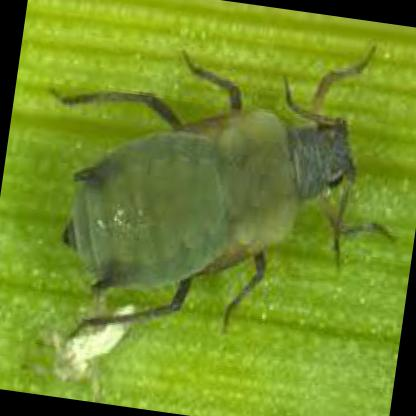schizaphis graminum: (60, 60, 358, 331)
